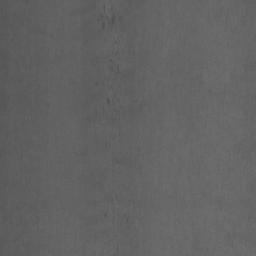Silk spot: (97, 13, 122, 32), (109, 59, 121, 74)
